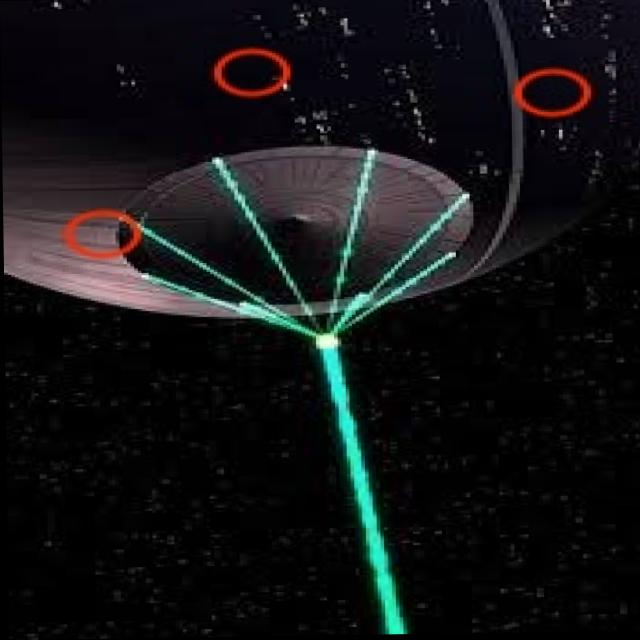deathStar: (0, 0, 640, 324)
